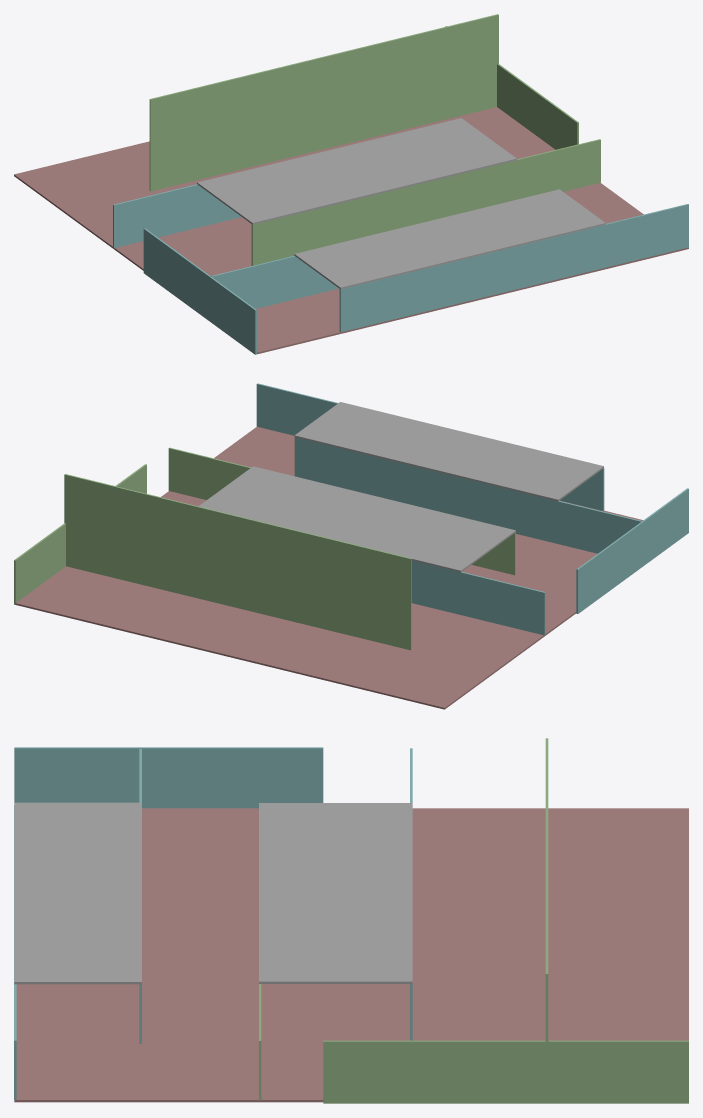
The model's file is MeshTestLightProbes.fbx.
3 views of the same model, one above another, from view 1: azimuth 30°, elevation 25°; view 2: azimuth 150°, elevation 25°; view 3: azimuth 270°, elevation 25° (orthographic). The views are drawn at different scales.
Parts seen in each view (by area): view 1: mWalls_6, mFloor_1, mWalls_5, mRoof_2, mWalls_3, mRoof_1, mWalls_7, mWalls_2, mWalls_4, mWalls_8; view 2: mFloor_1, mWalls_6, mRoof_2, mWalls_4, mRoof_1, mWalls_2, mWalls_7, mWalls_5, mWalls_3, mWalls_8; view 3: mFloor_1, mRoof_2, mRoof_1, mWalls_8, mWalls_7, mWalls_6.
Part boxes in pixels (x1,y1,x2,y2): mWalls_6: (149, 14, 498, 191); mFloor_1: (14, 107, 688, 354); mWalls_5: (339, 204, 688, 332); mRoof_2: (197, 118, 516, 224); mWalls_3: (251, 139, 600, 265); mRoof_1: (294, 189, 605, 289); mWalls_7: (143, 228, 256, 354); mWalls_2: (113, 184, 241, 248); mWalls_4: (211, 255, 338, 308); mWalls_8: (445, 26, 578, 149); mFloor_1: (15, 427, 643, 709); mWalls_6: (64, 474, 411, 650); mRoof_2: (199, 466, 515, 572); mWalls_4: (294, 437, 641, 553); mRoof_1: (294, 402, 603, 501); mWalls_2: (411, 560, 545, 635); mWalls_7: (576, 488, 688, 613); mWalls_5: (256, 383, 604, 510); mWalls_3: (168, 447, 515, 575); mWalls_8: (14, 464, 146, 604); mFloor_1: (14, 808, 688, 1102); mRoof_2: (259, 803, 412, 983); mRoof_1: (14, 802, 141, 984); mWalls_8: (323, 1040, 688, 1103); mWalls_7: (14, 747, 323, 808); mWalls_6: (545, 738, 548, 1101).
Size of the model in its own units: 5312 by 1090 by 5146.
